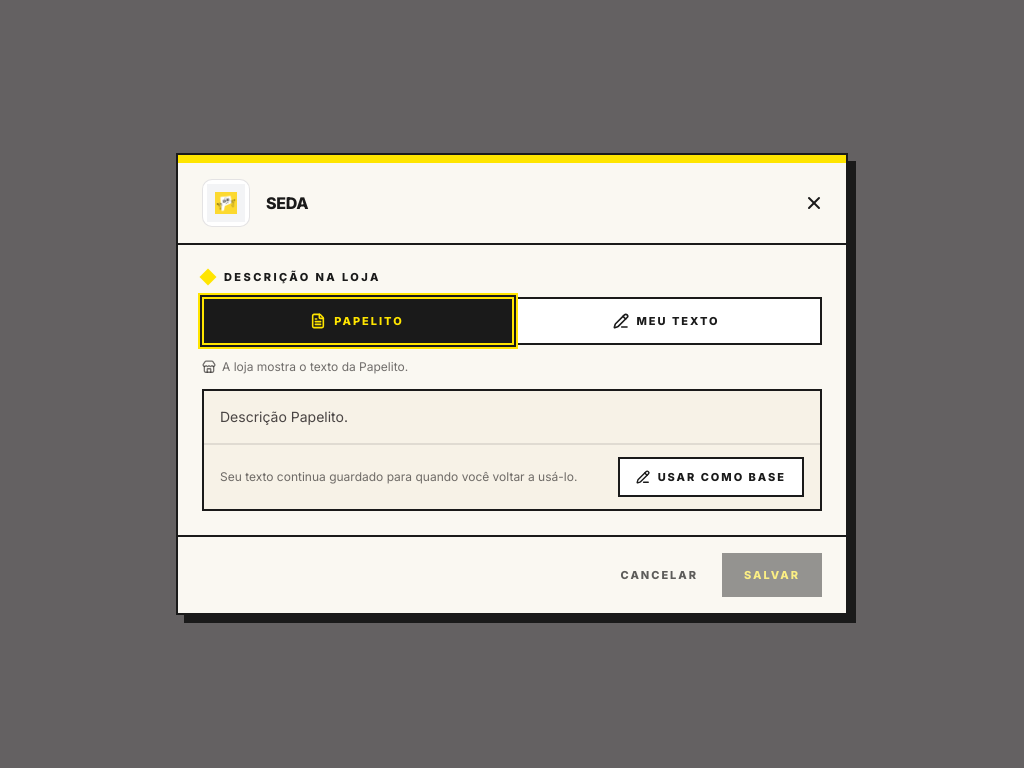
Test: VendorProductDescriptionModal — descrição na loja › 'Usar como base' leva o original para o editor e passa a loja para o seu texto
Expected: the text "Seu texto continua guardado para quando você voltar a usá-lo." is shown, x1=220 y1=467 x2=577 y2=487
Click the button "Usar como base". click: x=711, y=477
box: x1=618 y1=457 x2=804 y2=497
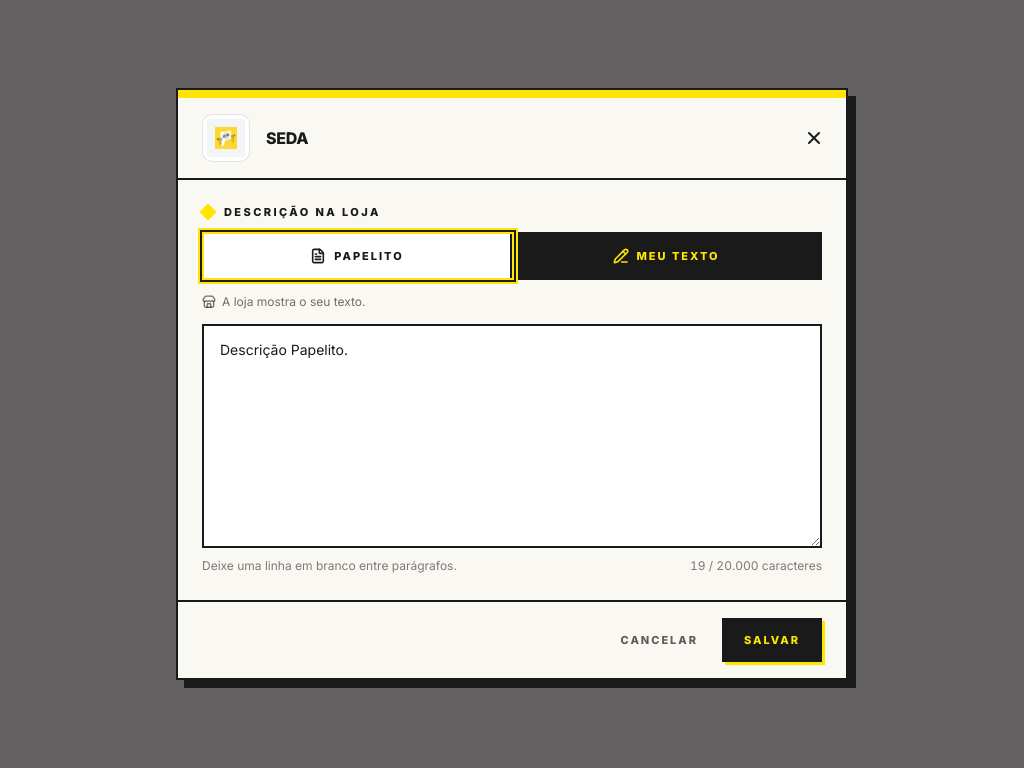
Result: the radio button labelled "Meu texto" is checked at x1=512 y1=234 x2=820 y2=278
Result: the text box named "Seu texto para a loja" holds "Descrição Papelito." at x1=202 y1=324 x2=822 y2=548
Result: the text "A loja mostra o seu texto." is shown at x1=202 y1=294 x2=366 y2=309
